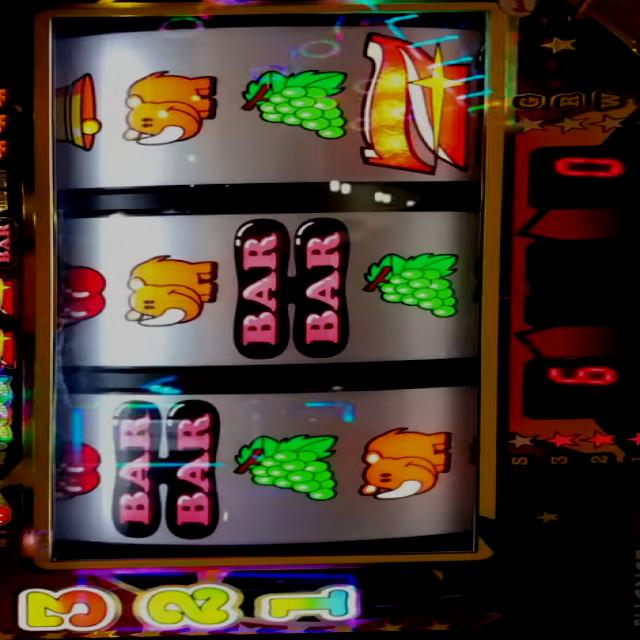bar: (228, 216, 356, 363), (106, 398, 226, 541), (0, 217, 17, 266)
bell: (52, 70, 106, 153)
cherry: (52, 261, 108, 330), (55, 439, 103, 502), (1, 504, 12, 525)
display: (45, 10, 487, 560)
elephant: (121, 69, 223, 148), (354, 426, 458, 503), (121, 253, 219, 330), (0, 110, 12, 136), (0, 138, 12, 162), (0, 87, 9, 107)
grape: (237, 69, 351, 145), (231, 432, 341, 504), (359, 252, 465, 321), (0, 374, 16, 396), (0, 420, 17, 440), (0, 396, 14, 418)
z: (358, 30, 472, 178), (0, 325, 21, 372), (0, 272, 19, 316)
